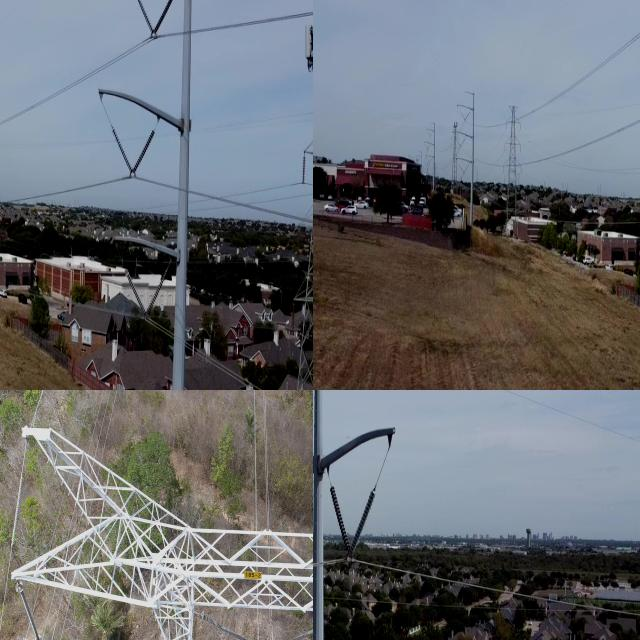杆塔: (14, 409, 313, 640), (290, 94, 313, 390), (498, 97, 532, 240)
正常绝缘子: (337, 473, 385, 579), (321, 468, 357, 564), (12, 579, 47, 640), (199, 609, 254, 640), (144, 266, 170, 323), (110, 126, 135, 179), (125, 269, 149, 322), (130, 129, 156, 177), (150, 0, 176, 41), (135, 0, 156, 40), (298, 145, 310, 188), (282, 624, 313, 640)
